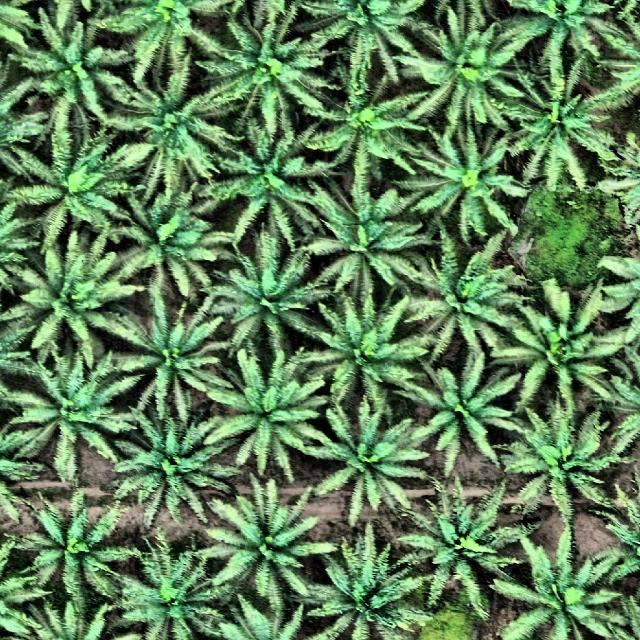Kelapa_Sawit: (19, 247, 136, 361), (496, 542, 626, 640), (15, 354, 126, 468), (211, 351, 314, 472), (507, 411, 612, 528), (303, 78, 422, 177), (106, 186, 219, 289), (310, 409, 420, 514), (130, 75, 238, 181), (24, 134, 130, 242), (414, 352, 512, 468), (503, 306, 608, 414), (222, 20, 328, 125), (314, 300, 419, 405), (420, 131, 522, 239), (212, 130, 324, 228), (214, 496, 317, 602), (206, 244, 311, 347), (421, 230, 506, 356), (122, 310, 225, 412), (120, 421, 228, 518), (418, 500, 512, 611), (302, 3, 432, 83), (418, 27, 520, 124), (326, 206, 422, 308), (39, 503, 131, 605), (124, 542, 218, 640), (522, 78, 608, 182), (319, 539, 408, 638), (114, 0, 223, 73), (34, 28, 125, 112), (517, 0, 617, 58)
